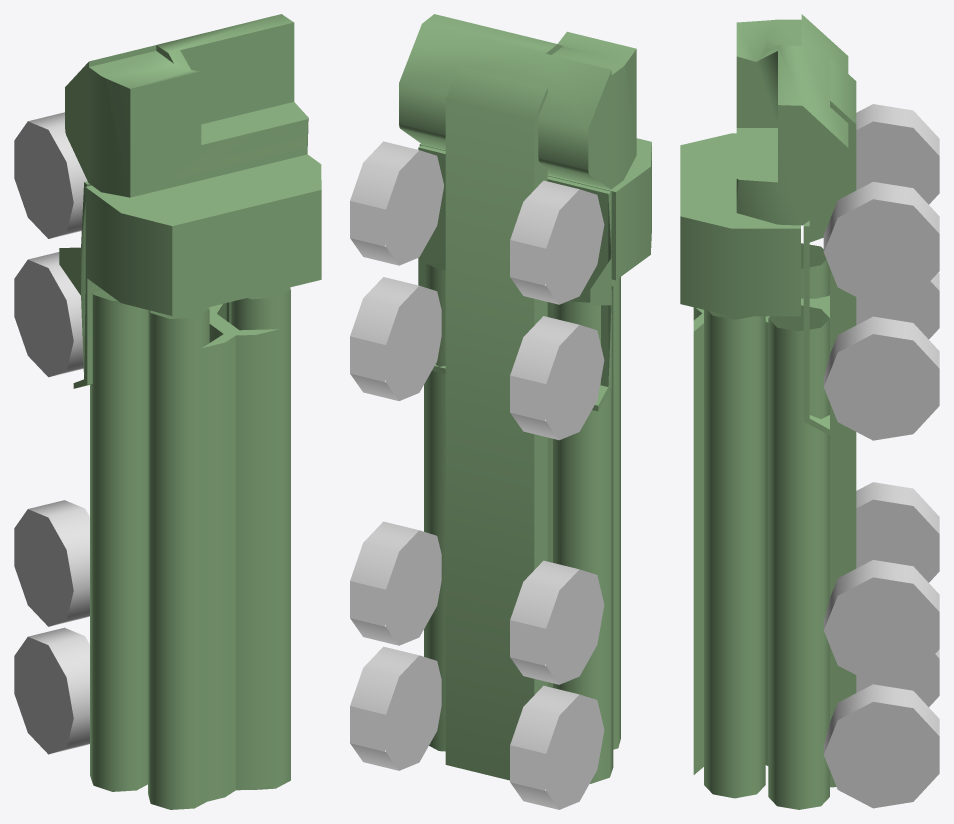
The picture shows the model from 3 angles, left to right: view 1: azimuth 30°, elevation 25°; view 2: azimuth 150°, elevation 25°; view 3: azimuth 270°, elevation 25°; orthographic projection. The views are drawn at different scales.
Parts seen in each view (by area): view 1: db_sa10_pl1_Geometry_1.001, db_sa10_p13789_Geometry_0.001; view 2: db_sa10_pl1_Geometry_1.001, db_sa10_p13789_Geometry_0.001; view 3: db_sa10_pl1_Geometry_1.001, db_sa10_p13789_Geometry_0.001.
Part boxes in pixels (box(x1,y1,x2,y2)): db_sa10_pl1_Geometry_1.001: box(59, 14, 321, 809); db_sa10_p13789_Geometry_0.001: box(14, 112, 89, 754); db_sa10_pl1_Geometry_1.001: box(399, 14, 651, 783); db_sa10_p13789_Geometry_0.001: box(350, 141, 604, 809); db_sa10_pl1_Geometry_1.001: box(680, 14, 856, 809); db_sa10_p13789_Geometry_0.001: box(823, 104, 939, 808).
Size of what is drawn, in the model's own units: 2.56 by 8.86 by 2.95.
